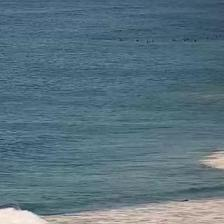surfer: (181, 38, 188, 43), (171, 39, 178, 42), (119, 38, 124, 42), (135, 39, 140, 43), (206, 36, 210, 40), (194, 39, 197, 43), (215, 36, 218, 39), (146, 40, 148, 44)
